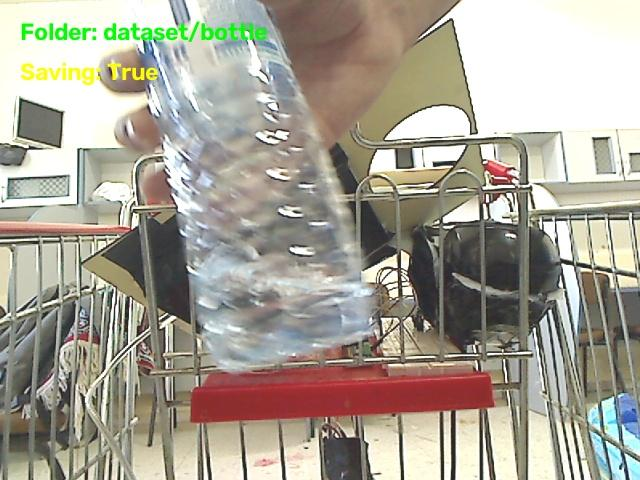Bottle: (130, 0, 369, 370)
